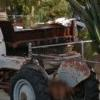Tractor: (10, 33, 100, 100)
